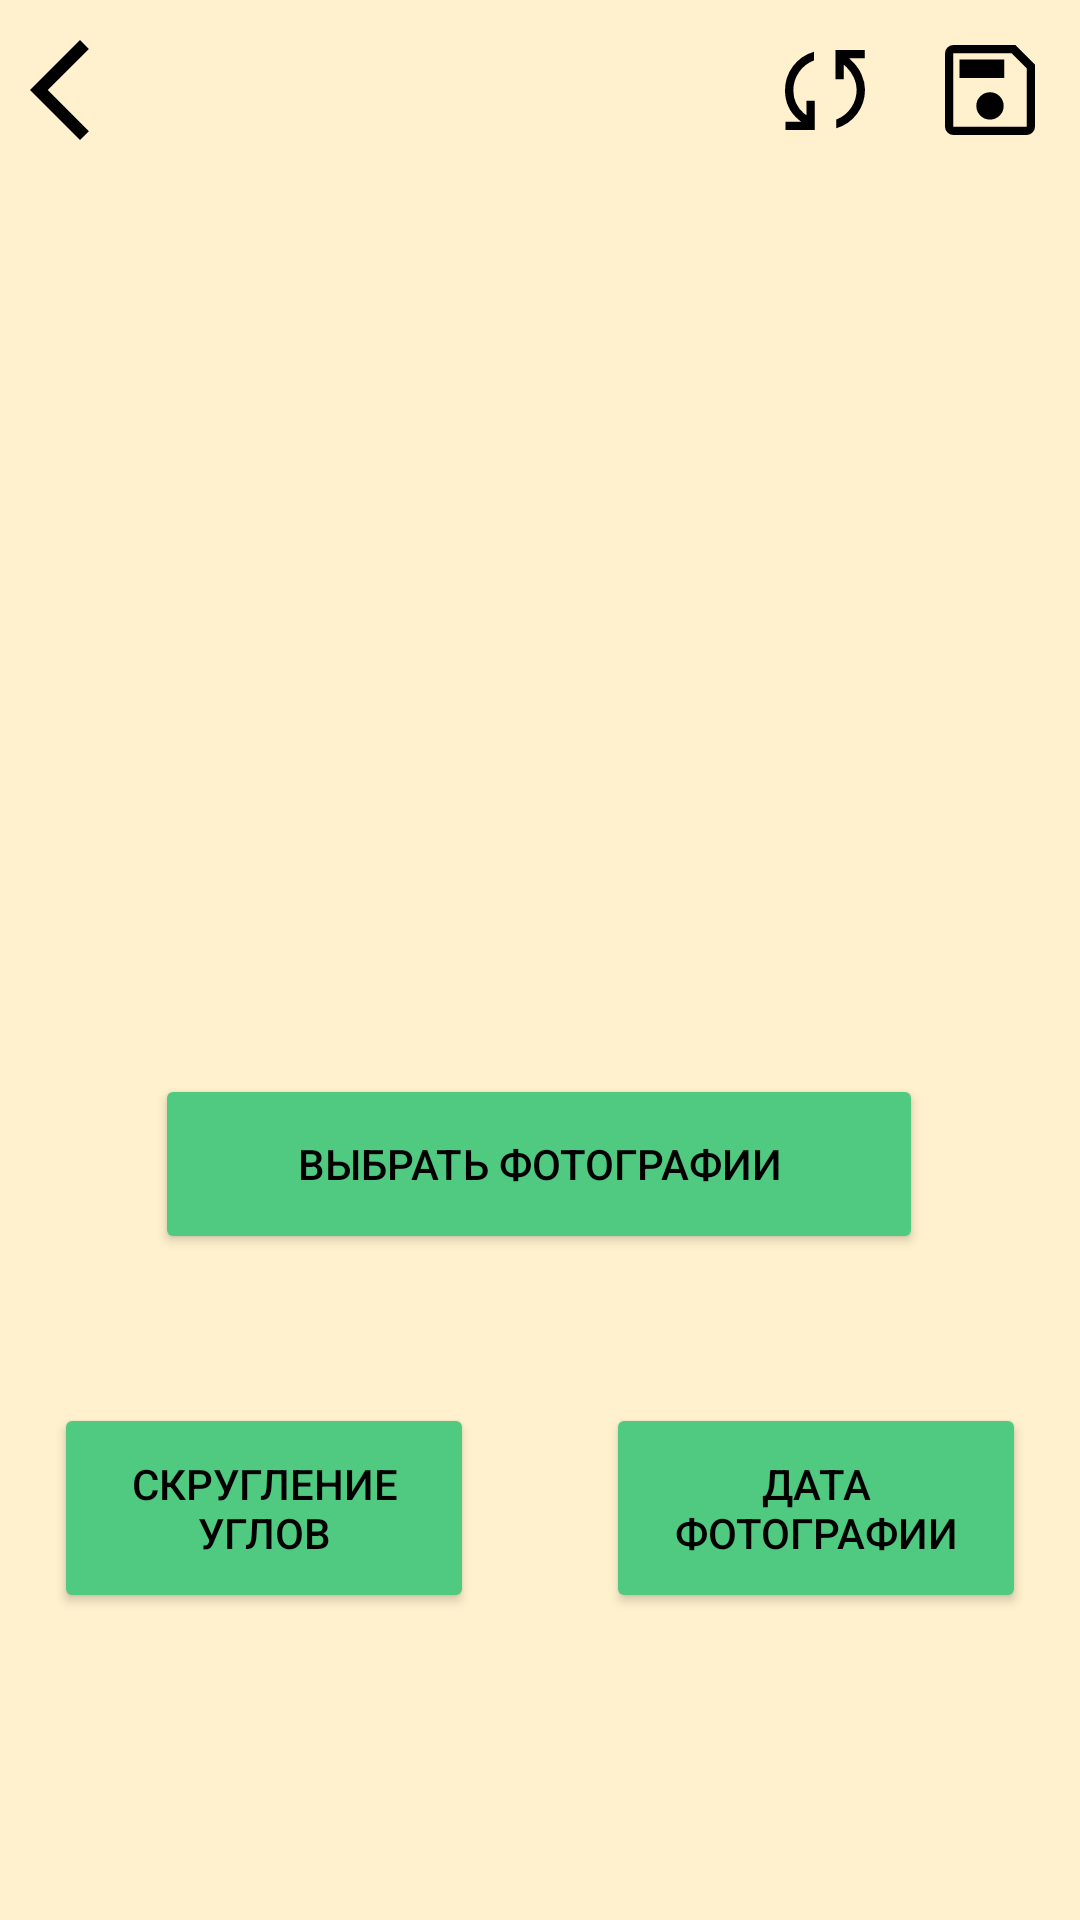

Screen size 1080x1920. Icon name, then its box in pixels as box(x1, y1, x2, y2):
arrow back: box(30, 40, 89, 140)
save: box(945, 45, 1035, 135)
sync: box(785, 50, 865, 130)
